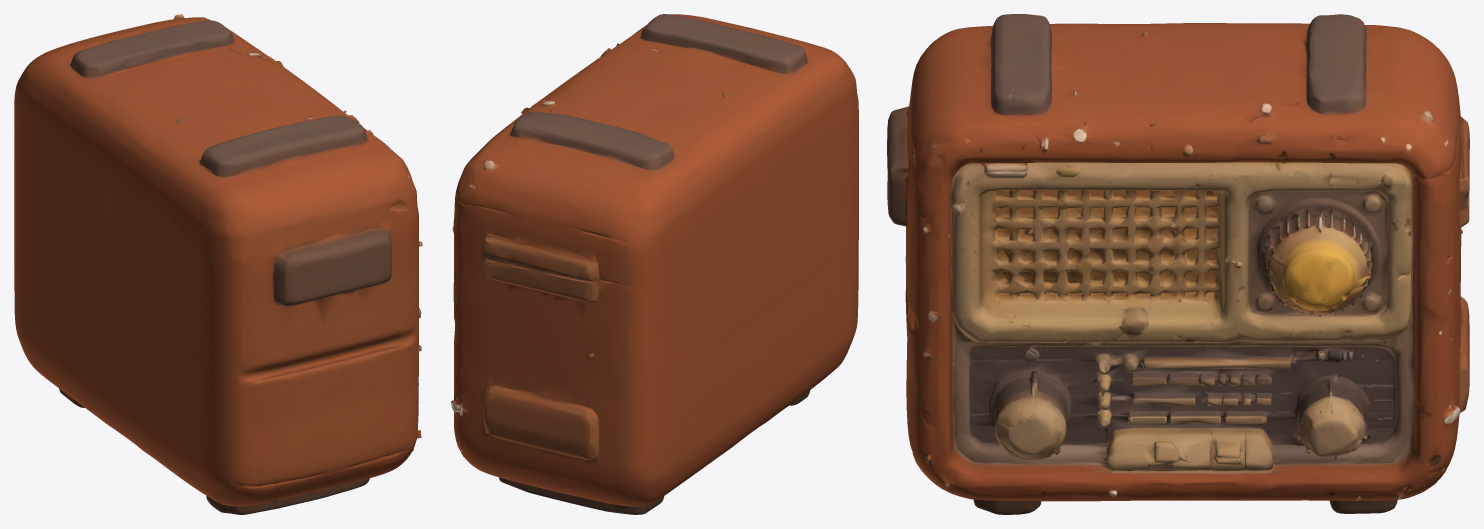
Rendered from radio.glb.
3 views of the same model, side by side, from view 1: azimuth 30°, elevation 25°; view 2: azimuth 150°, elevation 25°; view 3: azimuth 270°, elevation 25° (orthographic). The views are drawn at different scales.
Visible parts, largest first — view 1: tripo_node_12de80b1-8b7f-4209-a91c-8ae5a21a8fb1; view 2: tripo_node_12de80b1-8b7f-4209-a91c-8ae5a21a8fb1; view 3: tripo_node_12de80b1-8b7f-4209-a91c-8ae5a21a8fb1.
Part boxes in pixels (bbox=[...]): tripo_node_12de80b1-8b7f-4209-a91c-8ae5a21a8fb1: bbox=[14, 14, 422, 514]; tripo_node_12de80b1-8b7f-4209-a91c-8ae5a21a8fb1: bbox=[451, 14, 858, 514]; tripo_node_12de80b1-8b7f-4209-a91c-8ae5a21a8fb1: bbox=[887, 14, 1469, 514].
Bounding box in the file's own units: 0.5575 × 0.7827 × 0.9785.
Materials: 1 (1 with a texture image).
